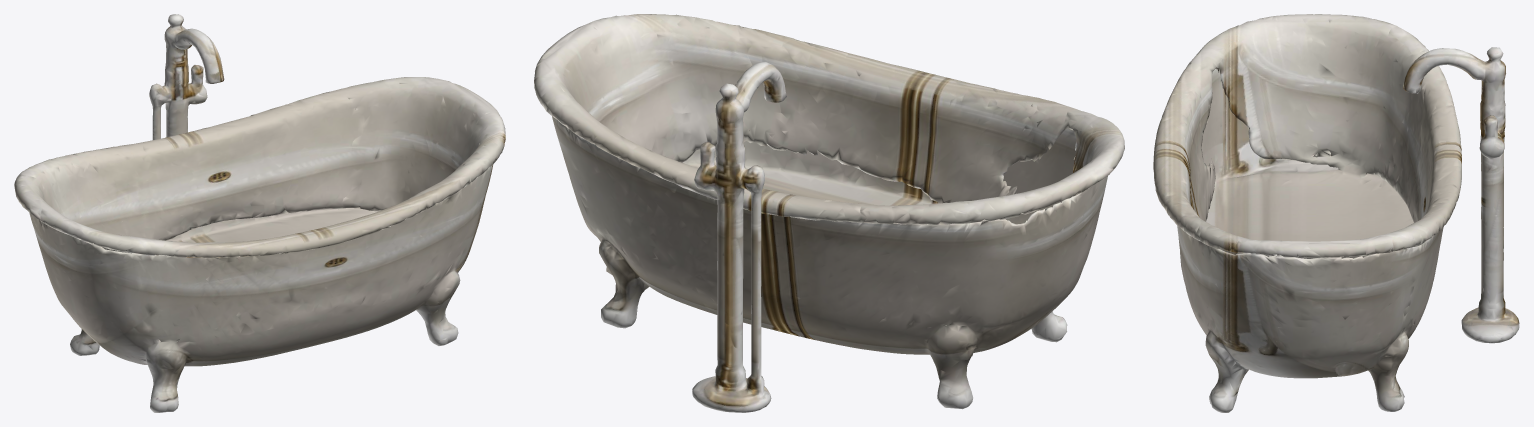
Rendered from bath.glb.
3 views of the same model, side by side, from view 1: azimuth 30°, elevation 25°; view 2: azimuth 150°, elevation 25°; view 3: azimuth 270°, elevation 25° (orthographic). The views are drawn at different scales.
Visible parts, largest first — view 1: geometry_0; view 2: geometry_0; view 3: geometry_0.
Boxes of the visible parts, x1,y1,x2,y2 form: geometry_0: (14, 14, 505, 412); geometry_0: (534, 14, 1124, 412); geometry_0: (1153, 14, 1519, 412).
Size of the model in its own units: 1.97 by 1.12 by 1.28.
1 material, 1 textured.
